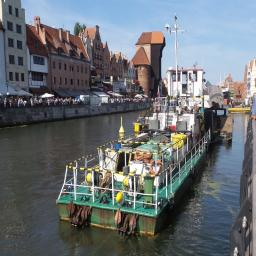tugboat: (54, 67, 214, 248)
